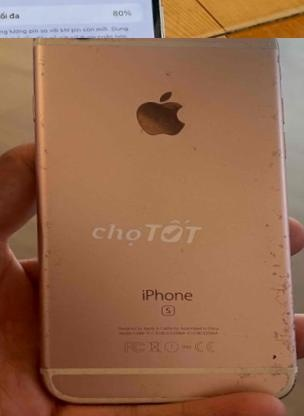scratch: (240, 92, 304, 396), (17, 204, 70, 331), (26, 38, 164, 48)
